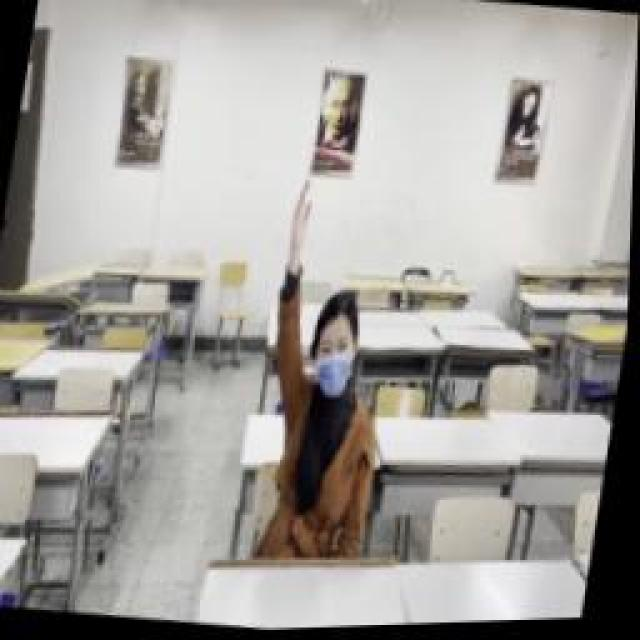study: (242, 180, 420, 562)
